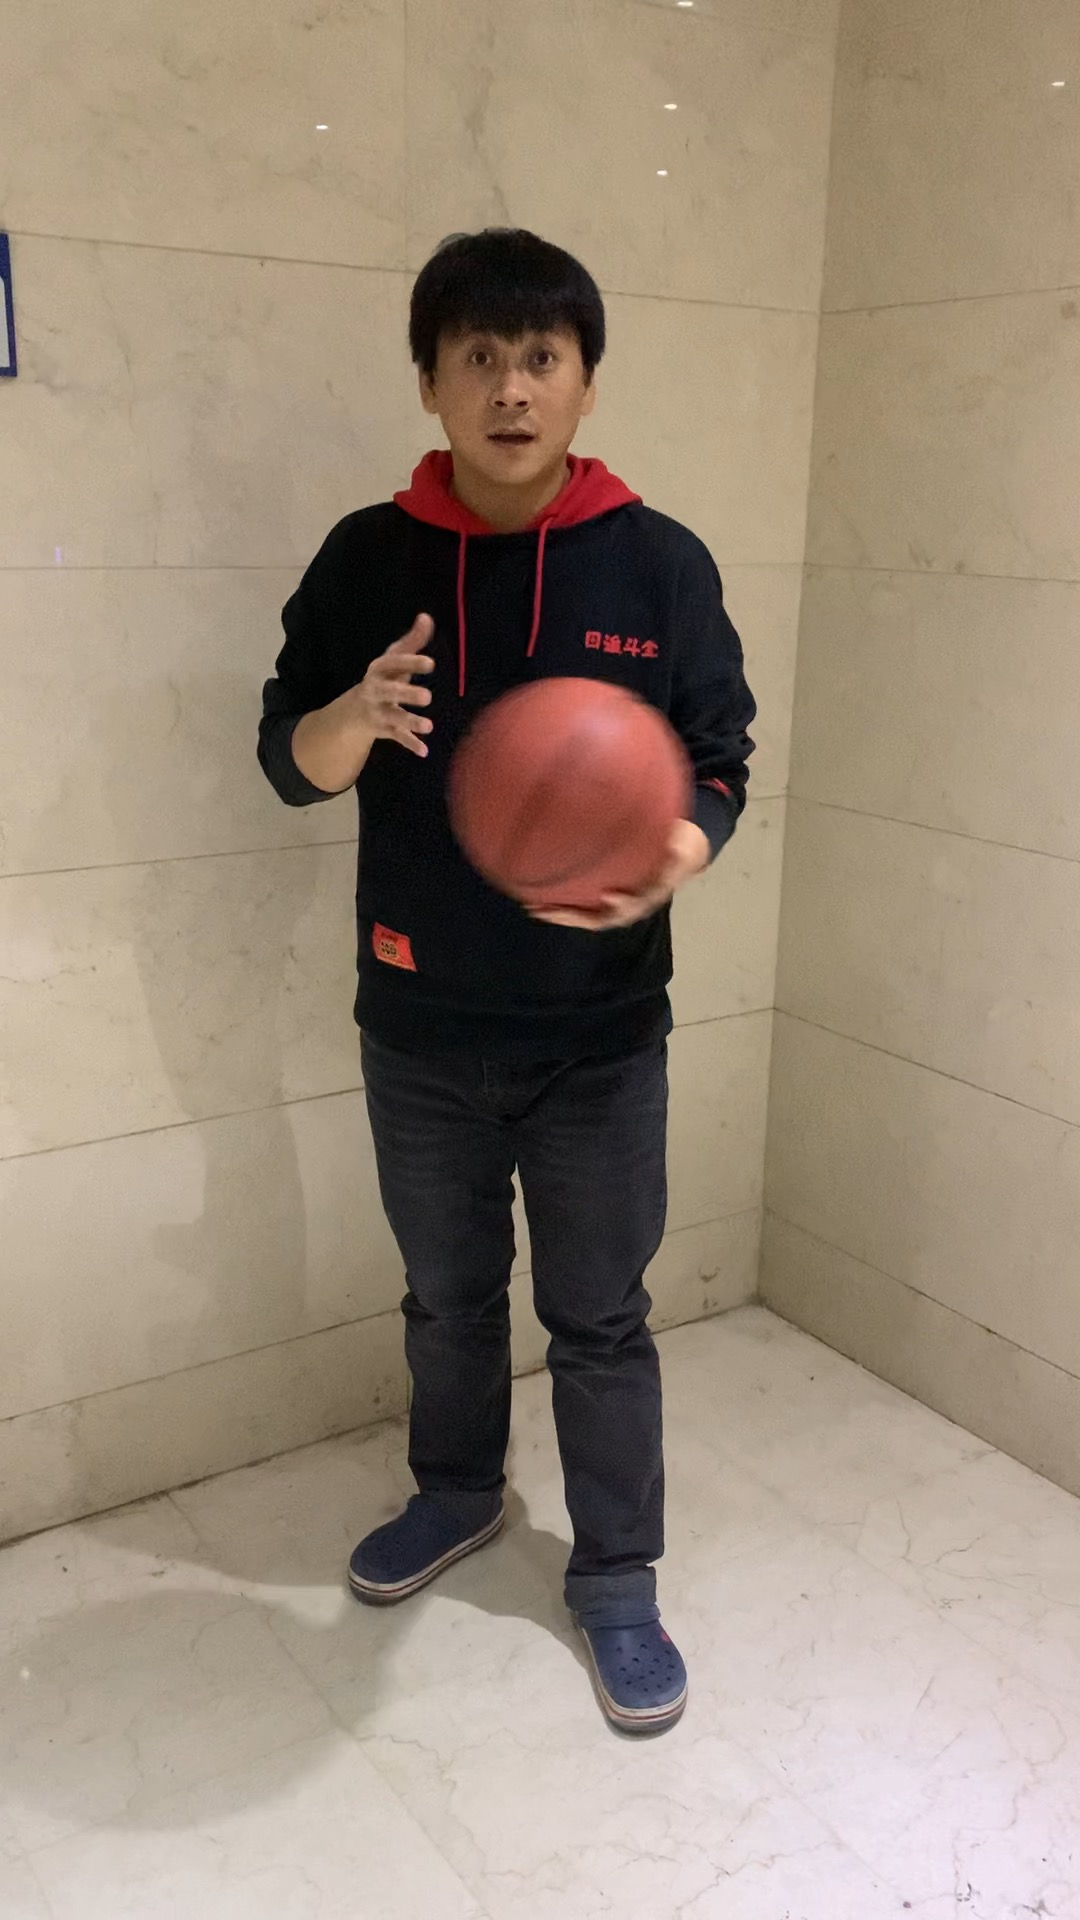ball: (446, 671, 692, 919)
